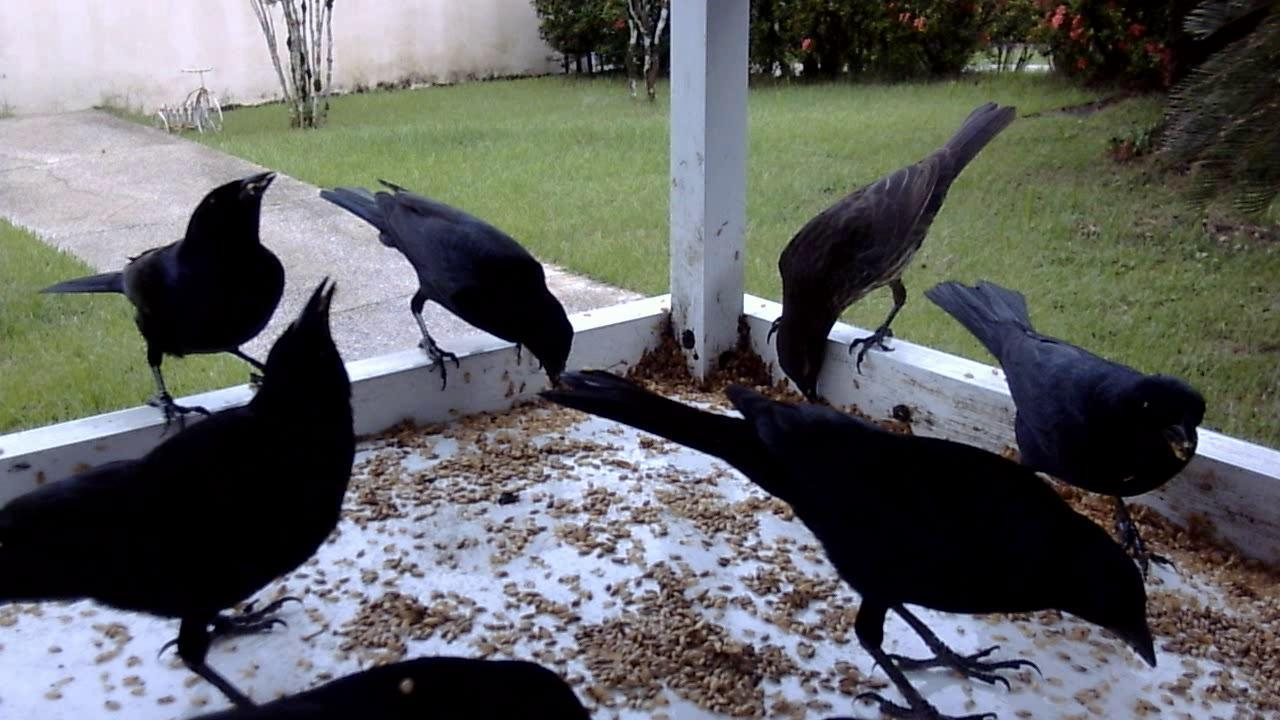chupim: (535, 363, 1169, 720), (12, 282, 367, 708), (914, 266, 1218, 576), (23, 154, 315, 442), (766, 97, 1023, 408), (313, 174, 583, 406)
